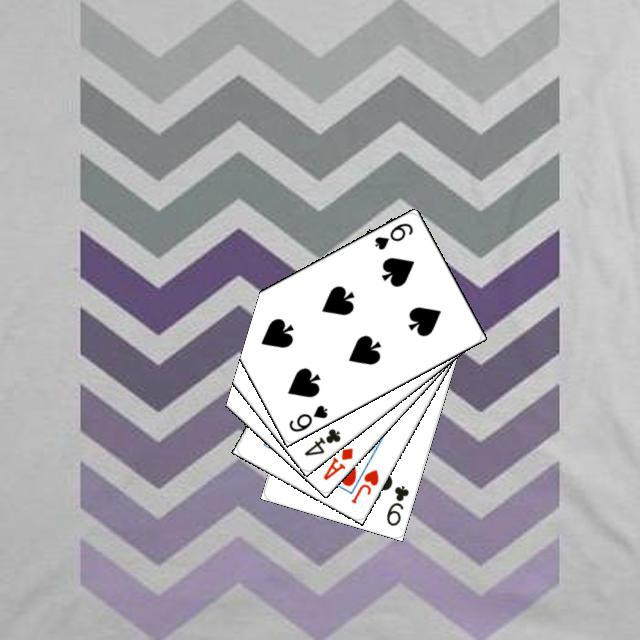4c: (299, 423, 342, 458)
6s: (284, 400, 330, 434), (369, 218, 415, 252)
9c: (381, 480, 410, 528)
Ad: (318, 443, 355, 482)
Jh: (346, 464, 381, 505)
